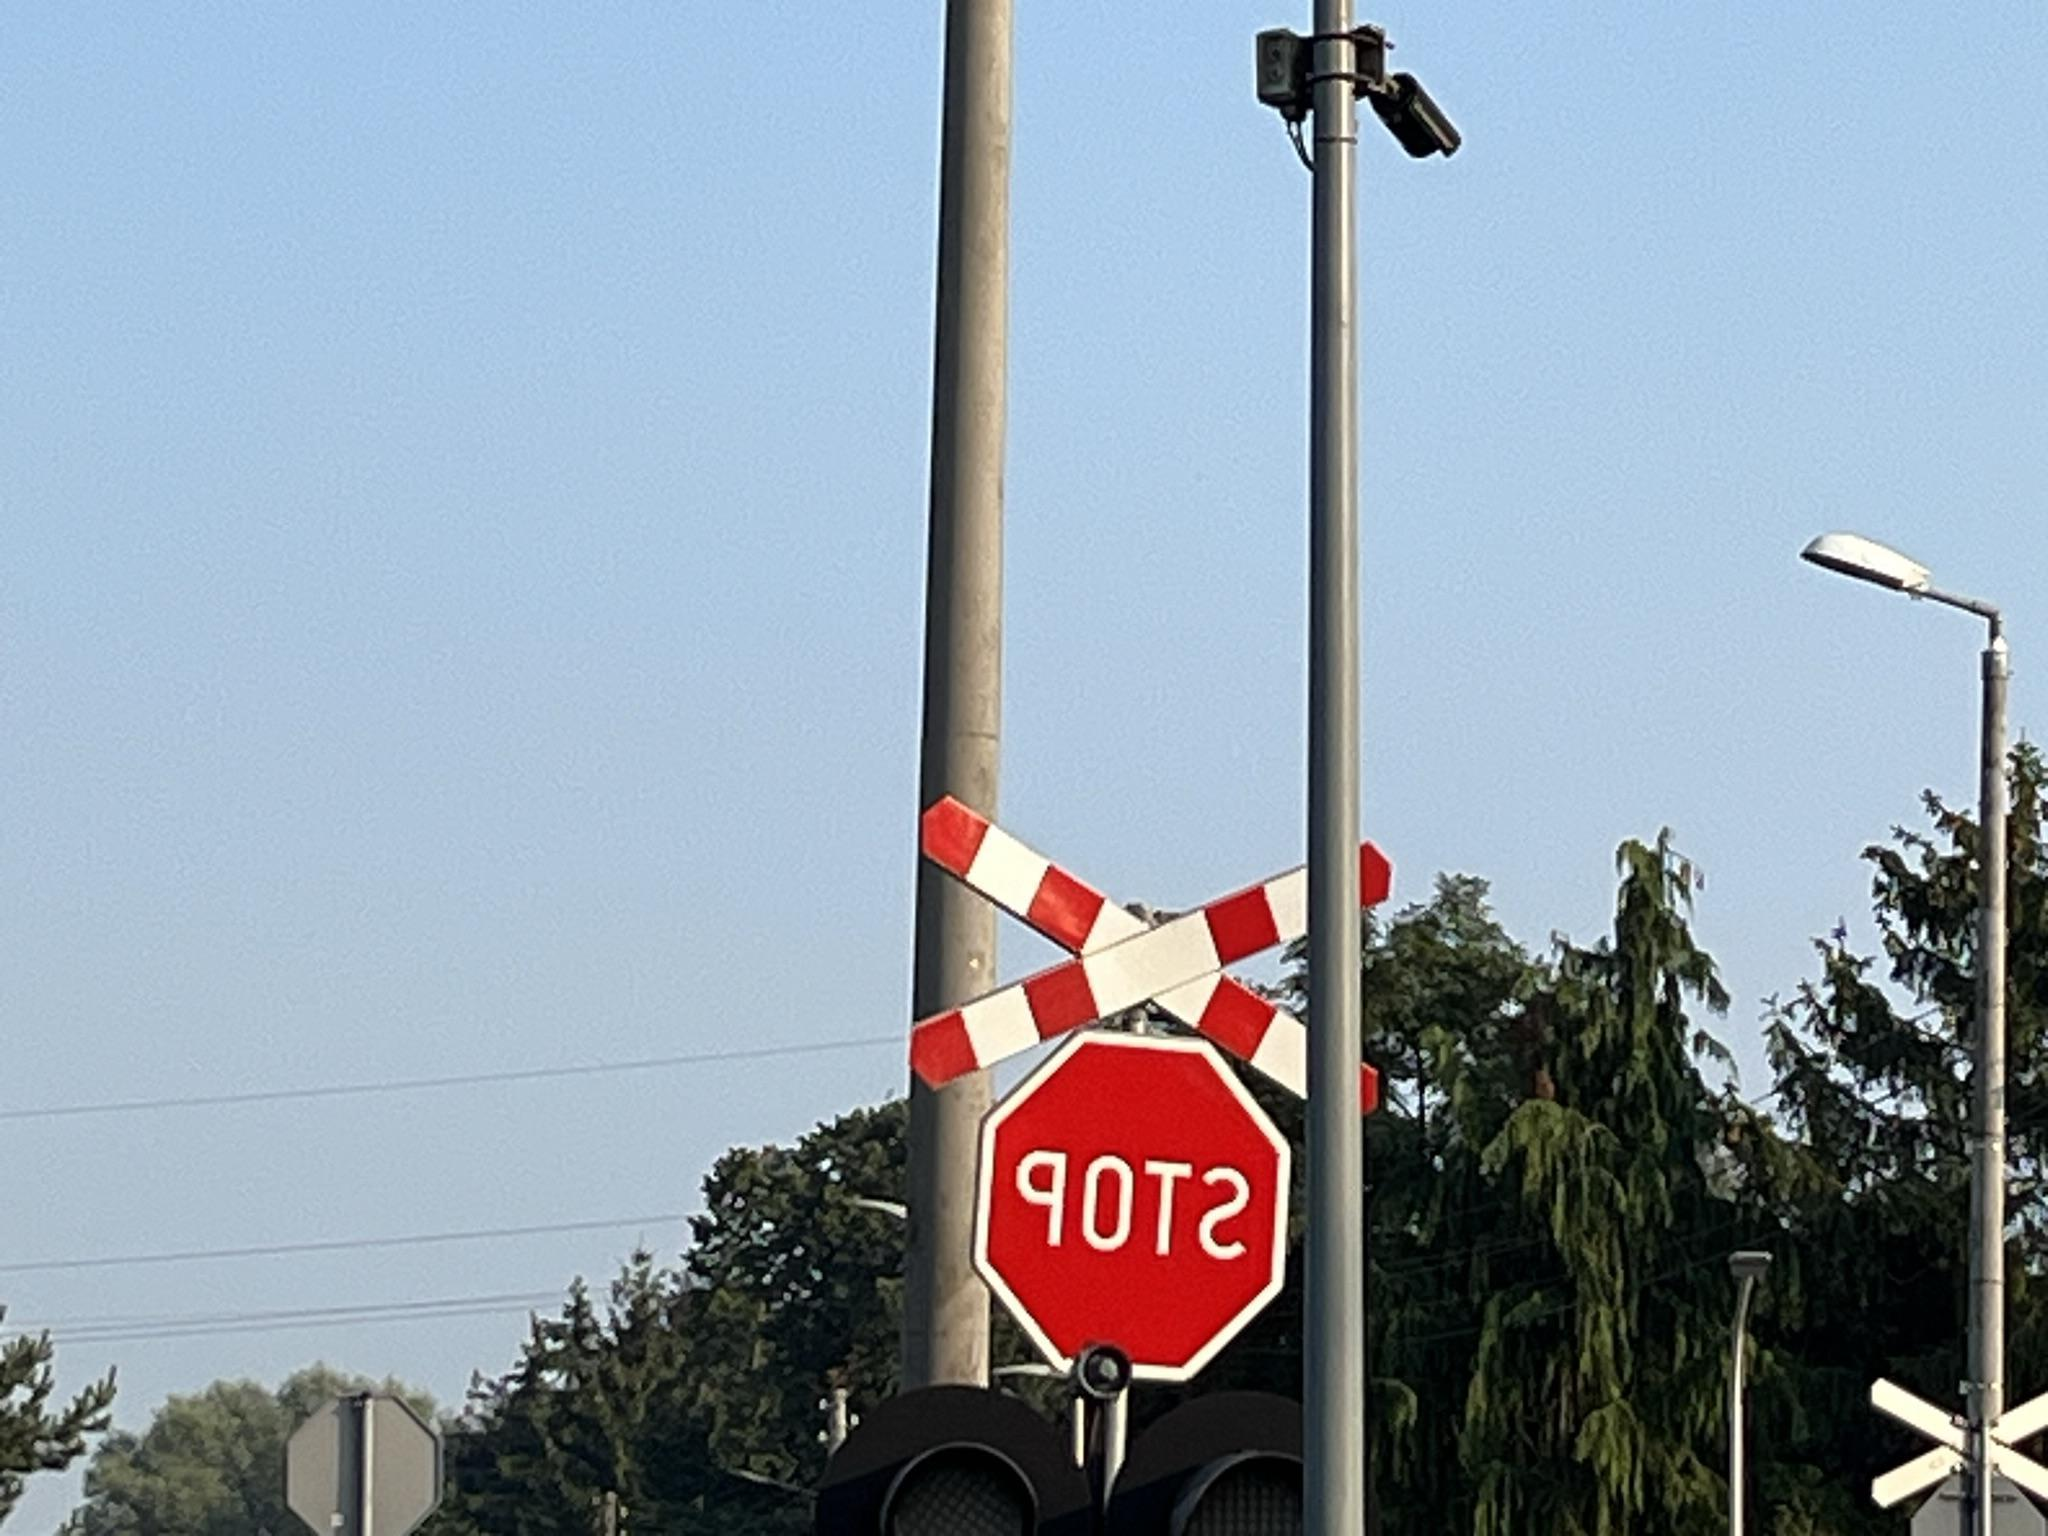prohibitory: (976, 1029, 1290, 1384)
